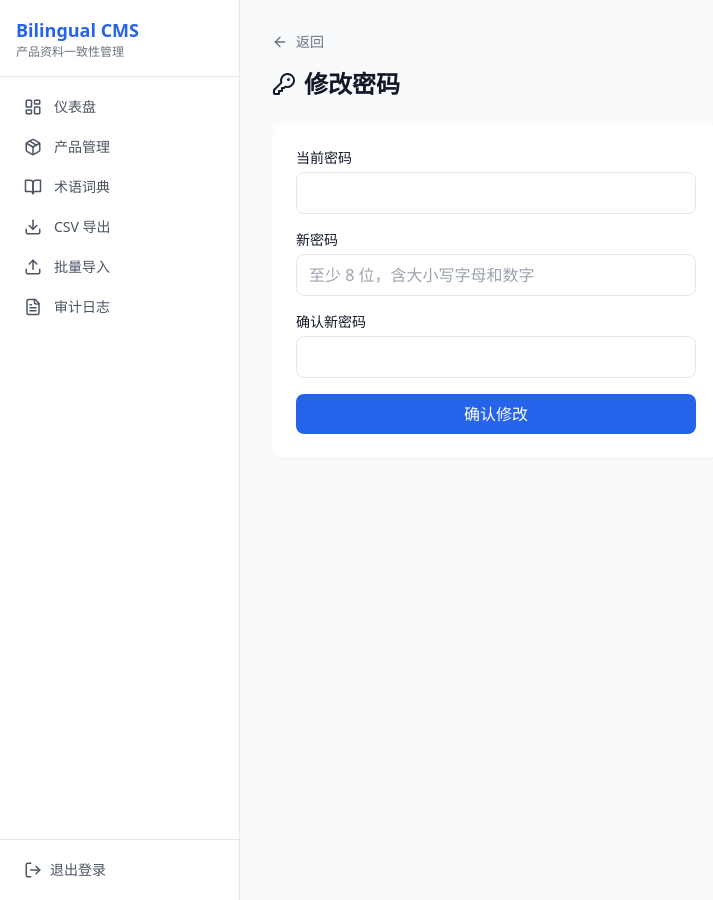
Test case: ChangePasswordPage › submits the new password and redirects to login
Type "OldPass123!" into the password field named "当前密码" at (496, 193), box left=296, top=172, right=696, bottom=214
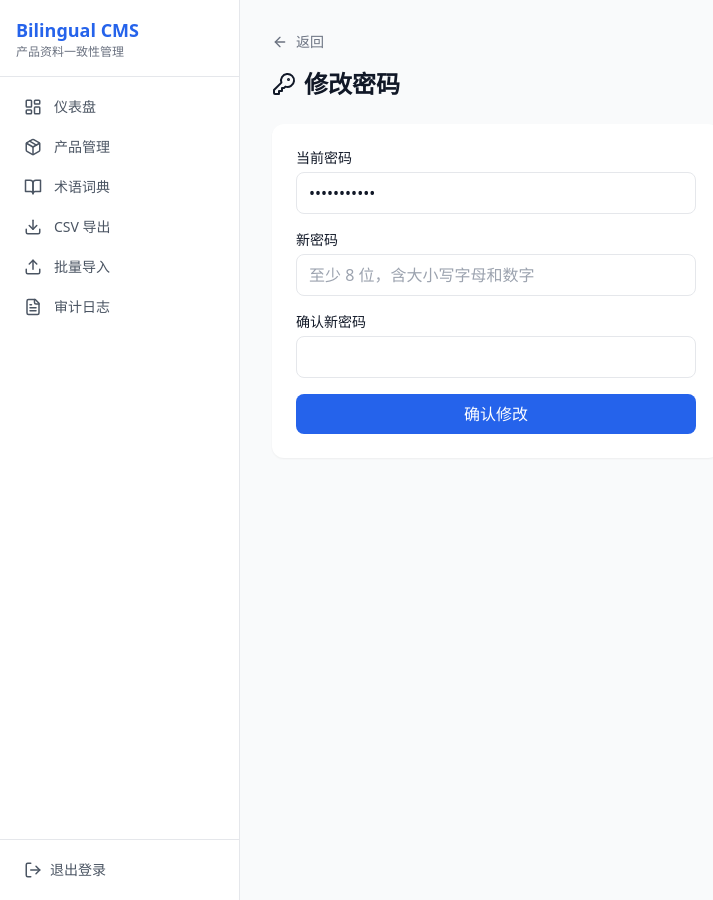
Type "NewPass123!" into the password field named "新密码" at (496, 275), box left=296, top=254, right=696, bottom=296
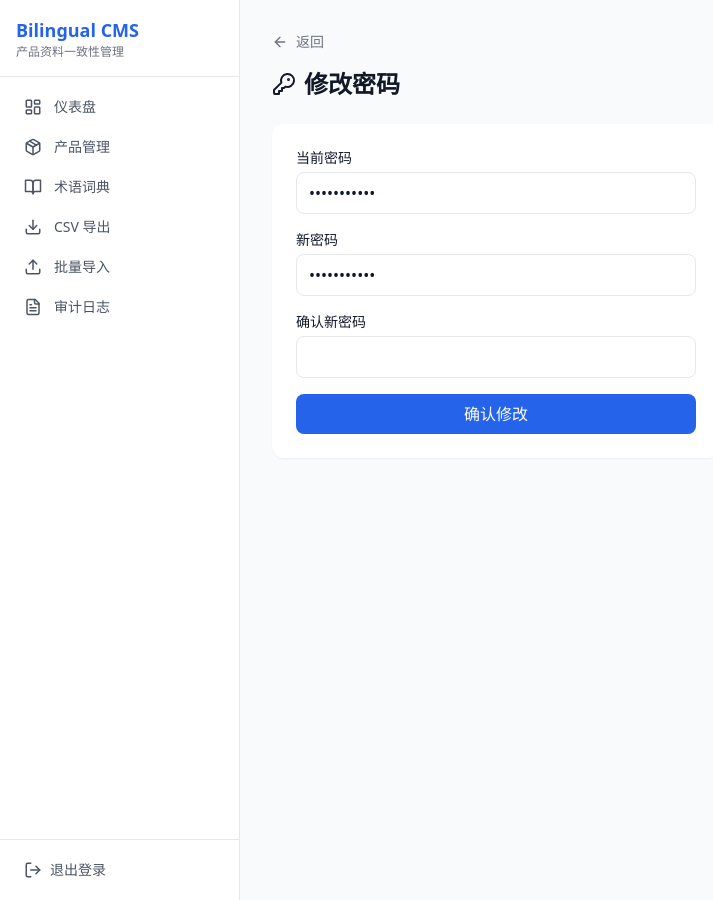
Type "NewPass123!" into the password field named "确认新密码" at (496, 357), box left=296, top=336, right=696, bottom=378
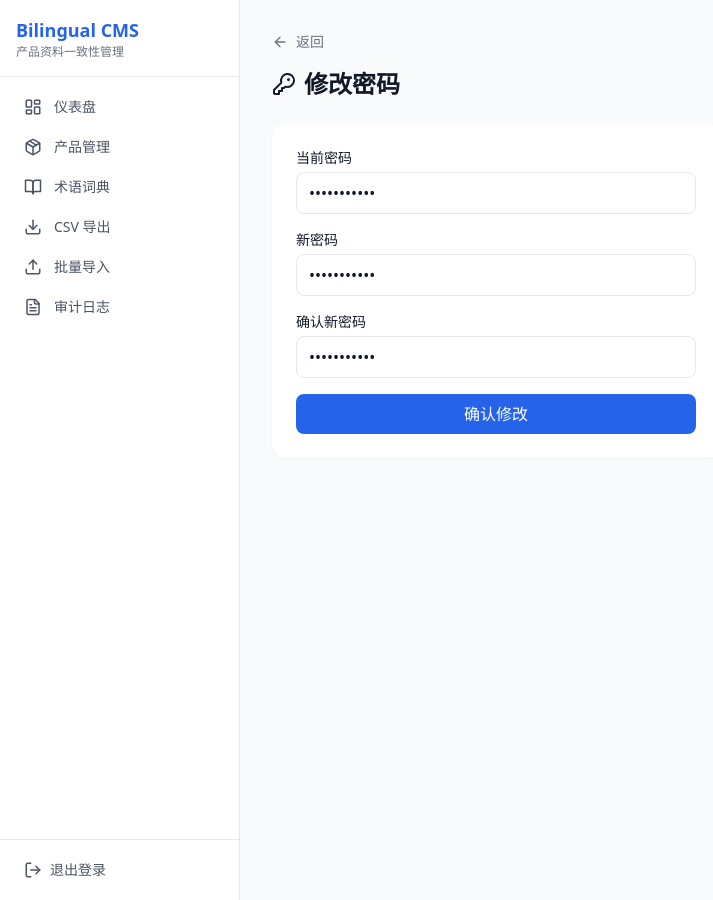
Click the button "确认修改" at (496, 414), box left=296, top=394, right=696, bottom=434
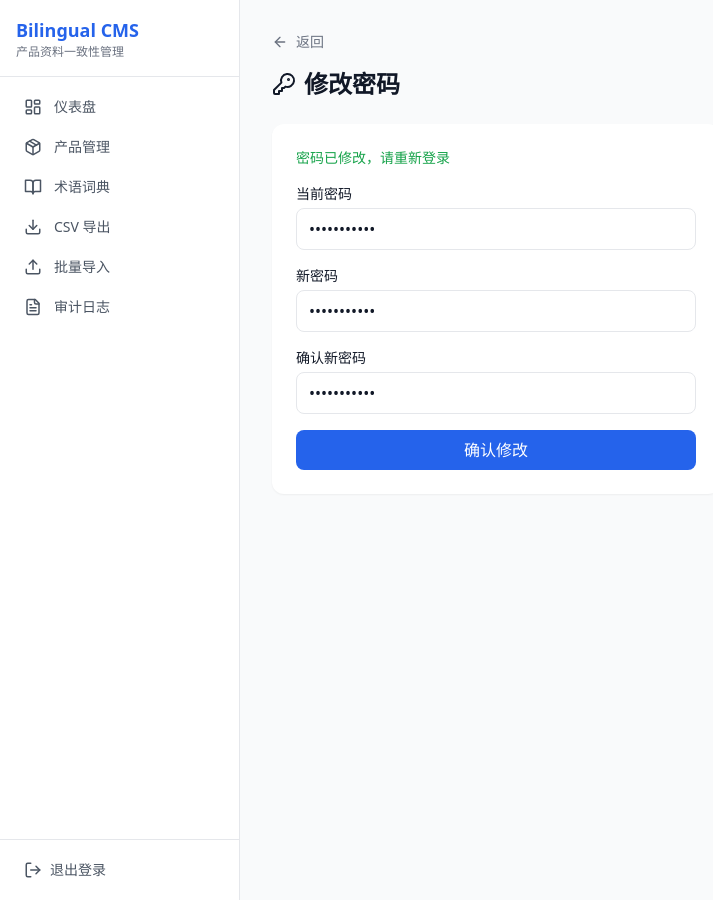
Expected: the text "密码已修改，请重新登录" is shown, left=296, top=148, right=450, bottom=167
